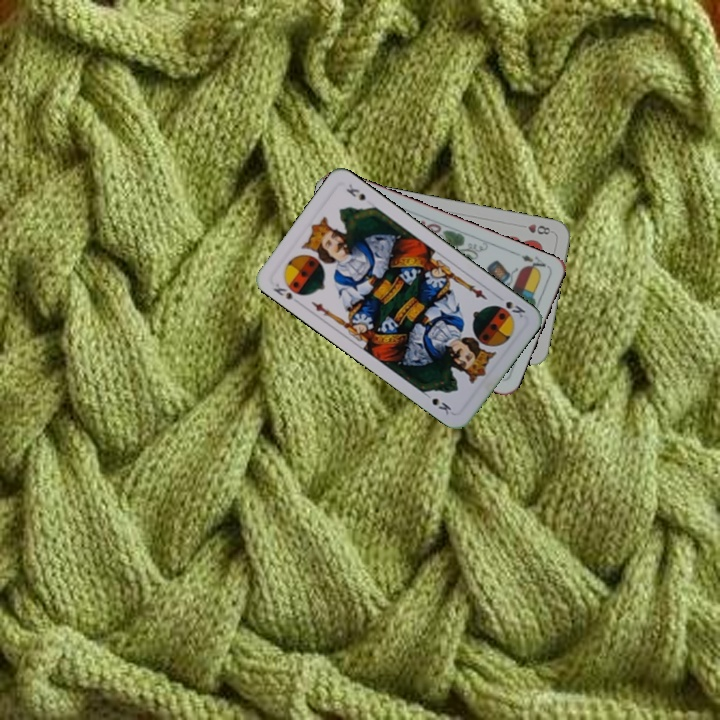EA: (511, 249, 548, 275)
H8: (524, 220, 553, 237)
SK: (493, 291, 528, 320), (269, 279, 296, 302)
